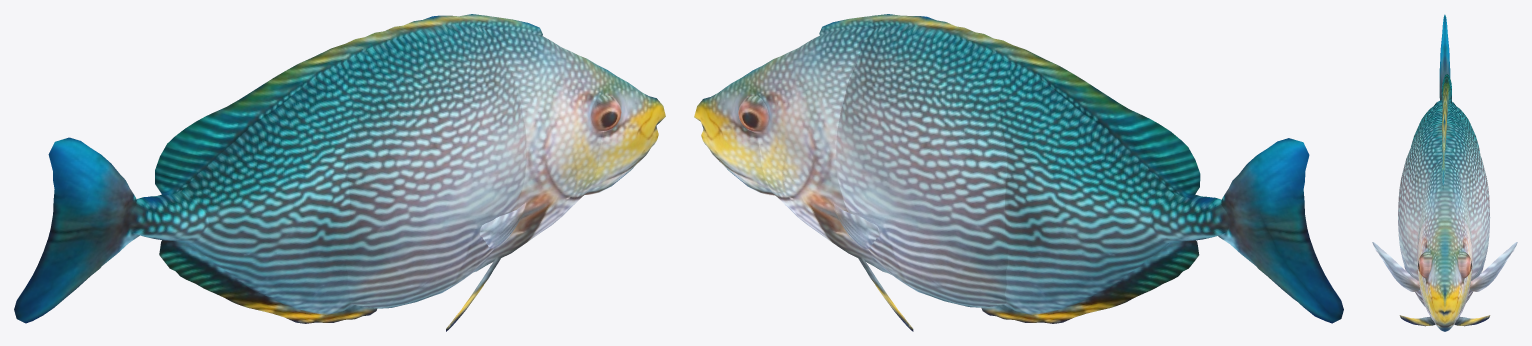
The model's file is fish-nom.glb.
The picture shows the model from 3 angles, left to right: view 1: azimuth 30°, elevation 25°; view 2: azimuth 150°, elevation 25°; view 3: azimuth 270°, elevation 25°; orthographic projection. The views are drawn at different scales.
Visible parts, largest first — view 1: Object_2; view 2: Object_2; view 3: Object_2.
Part boxes in pixels (x1,y1,x2,y2): Object_2: (14,14,665,331); Object_2: (694,14,1343,331); Object_2: (1372,14,1517,331).
Bounding box in the file's own units: 1.9 × 0.8046 × 0.5193.
Materials: 1 (1 with a texture image).
